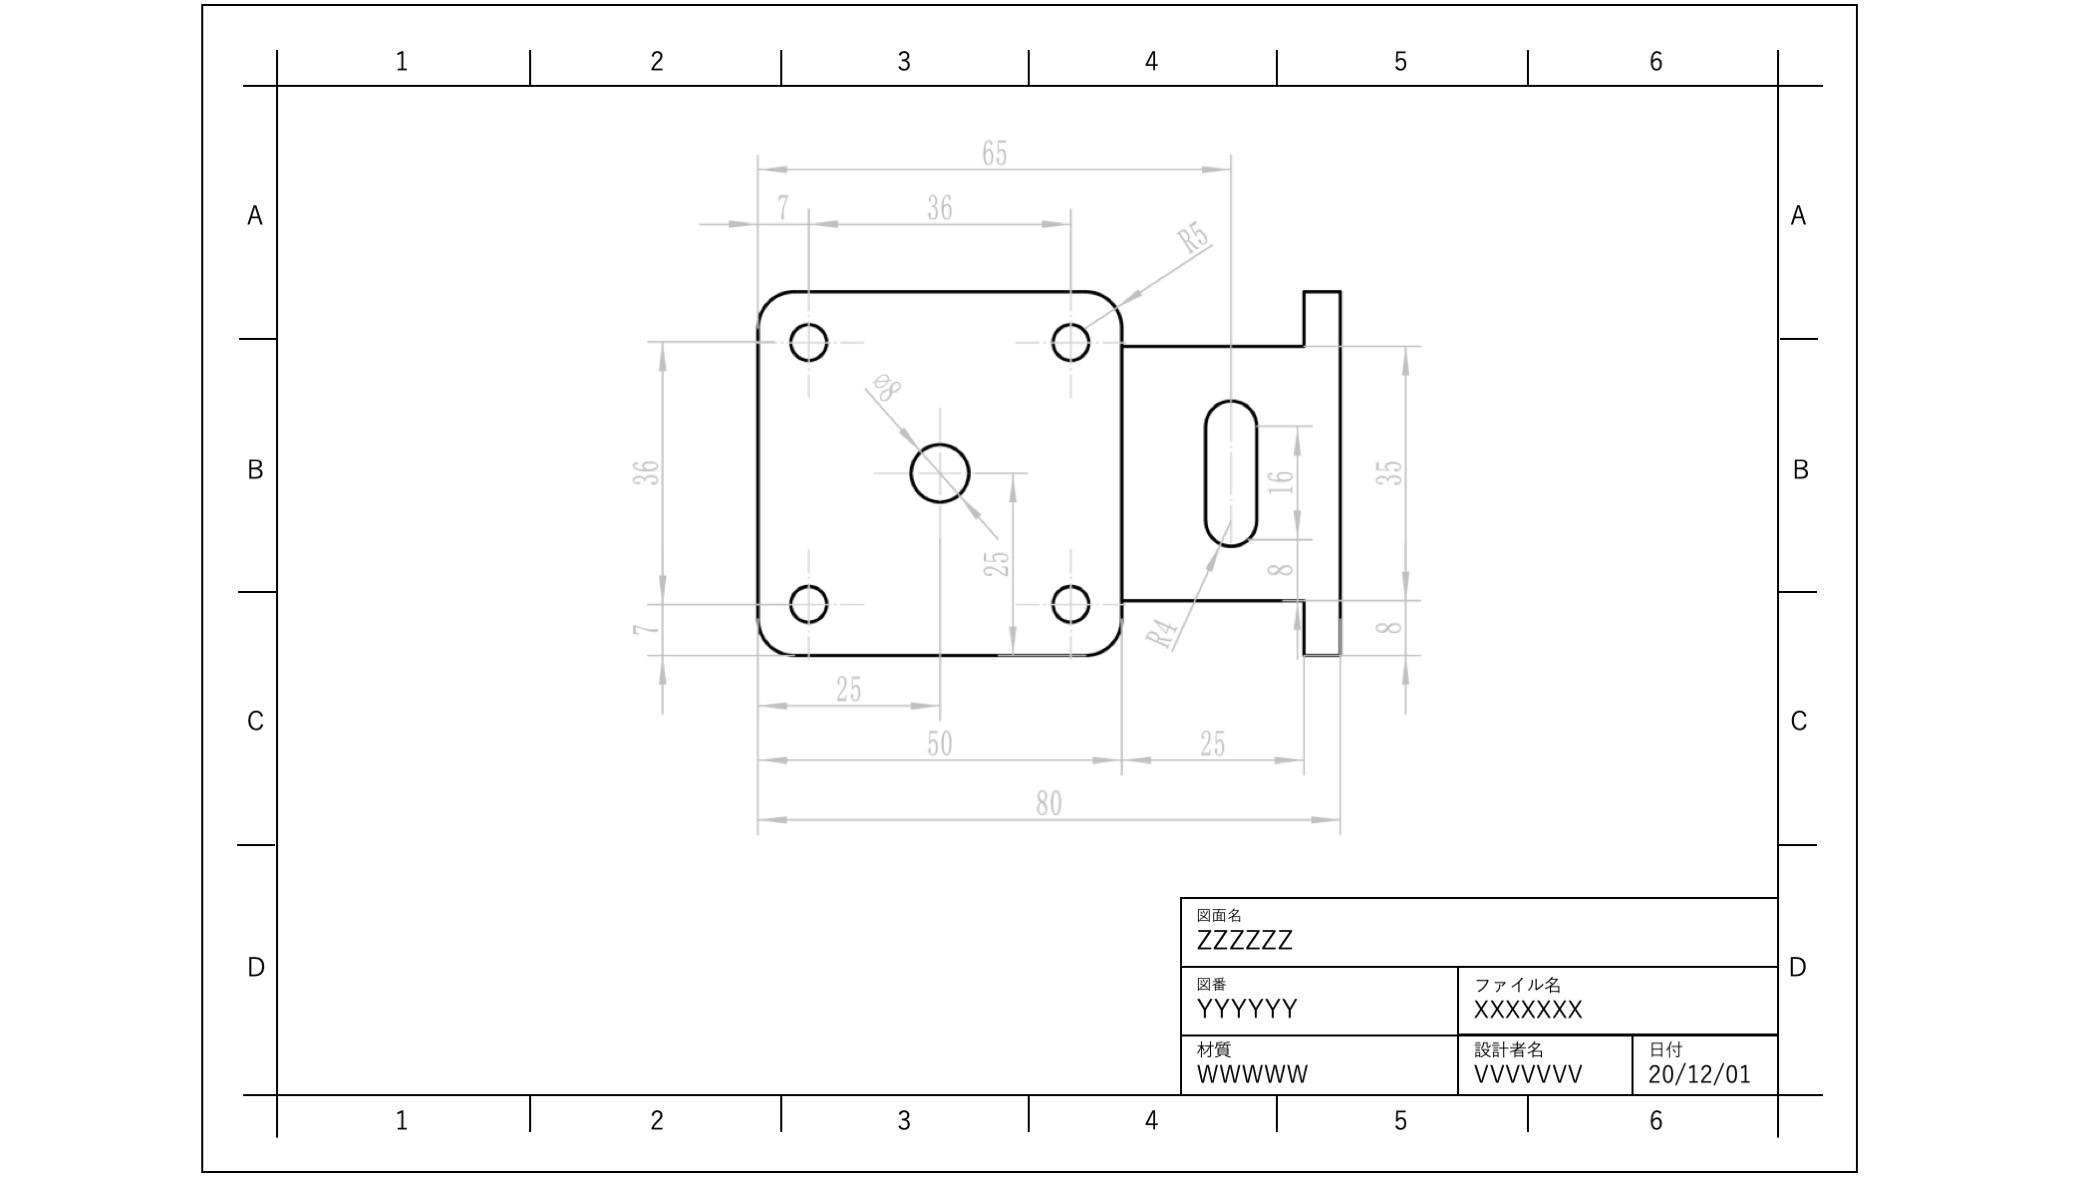circle: (904, 438, 974, 506), (780, 575, 844, 624), (1046, 574, 1095, 630), (785, 320, 829, 371), (1050, 320, 1087, 371)
round_rectangle: (1196, 389, 1266, 554)
